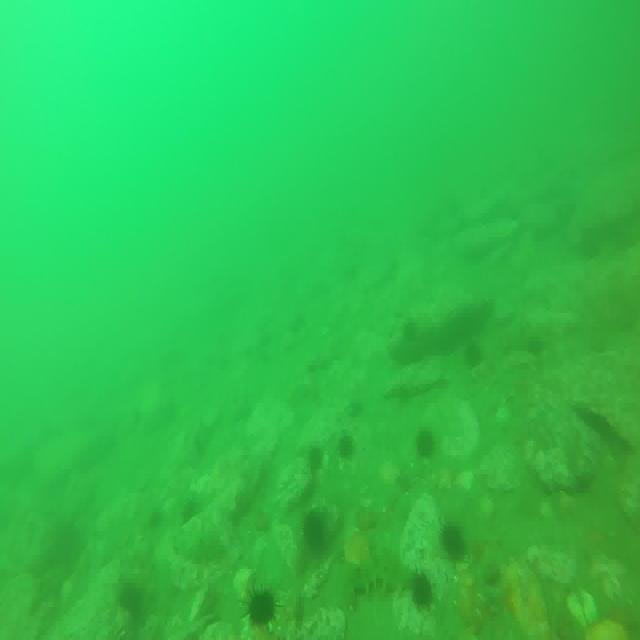echinus: (243, 586, 277, 629), (305, 515, 330, 553), (118, 580, 143, 616), (411, 574, 437, 604), (178, 498, 199, 535), (414, 425, 436, 460), (441, 524, 465, 556), (463, 338, 485, 371), (337, 431, 360, 457), (305, 448, 326, 476), (148, 511, 165, 533)
holothurian: (352, 562, 411, 594)
